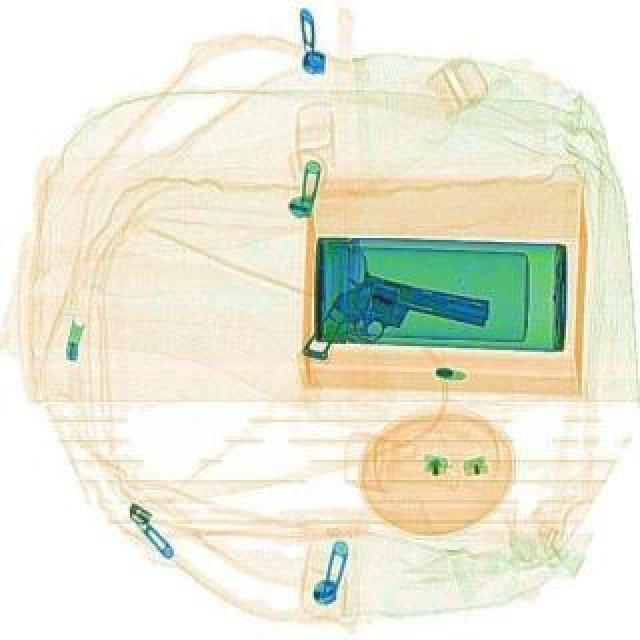gun: (302, 262, 498, 392)
